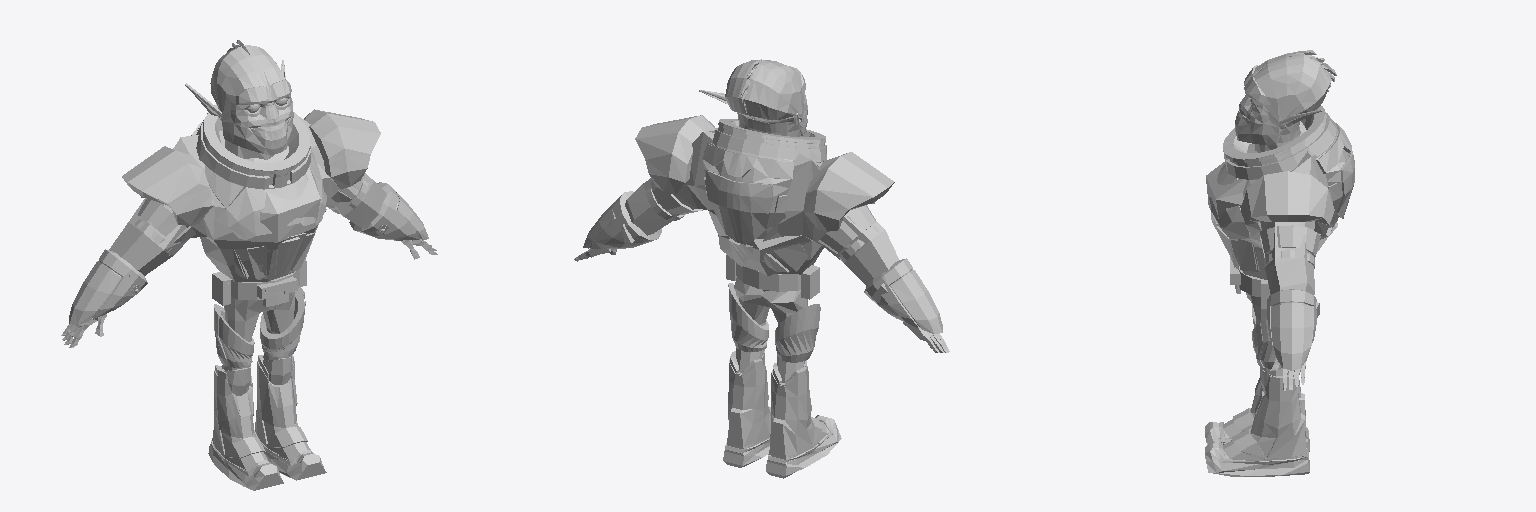
File: Alien.obj
The picture shows the model from 3 angles: view 1: azimuth 30°, elevation 25°; view 2: azimuth 150°, elevation 25°; view 3: azimuth 270°, elevation 25°; orthographic projection.
Parts seen in each view (by area): view 1: outfit1 pCylinder7, outfit1 pPipe3 pPipe4, Head1, outfit1 polySurface36, outfit1 pPipe9 pPipe10, outfit1 polySurface31 polySurface32, outfit1 pPipe12 pPipe13, outfit1 polySurface34, outfit1 polySurface40, outfit1 polySurface38, outfit1 pPipe5 pPipe6, outfit1 pPipe15 pPipe16 (+9 smaller); view 2: outfit1 pCylinder7, outfit1 pPipe3 pPipe4, outfit1 polySurface31 polySurface32, Head1, outfit1 pPipe9 pPipe10, outfit1 pPipe12 pPipe13, outfit1 polySurface18, outfit1 polySurface36, outfit1 polySurface34, outfit1 pPipe5 pPipe6, outfit1 polySurface19, outfit1 polySurface37 (+9 smaller); view 3: Head1, outfit1 pCylinder7, outfit1 pPipe3 pPipe4, outfit1 polySurface31 polySurface32, outfit1 polySurface36, outfit1 pPipe9 pPipe10, outfit1 polySurface38, outfit1 pPipe5 pPipe6, outfit1 polySurface39, outfit1 pPipe12 pPipe13, outfit1 polySurface19, outfit1 polySurface18 (+1 smaller).
Boxes of the visible parts, box(x1,y1,x2,y2) form: outfit1 pCylinder7: box(109, 116, 386, 281); outfit1 pPipe3 pPipe4: box(122, 109, 380, 225); Head1: box(185, 45, 293, 159); outfit1 polySurface36: box(196, 104, 326, 239); outfit1 pPipe9 pPipe10: box(69, 182, 428, 324); outfit1 polySurface31 polySurface32: box(211, 361, 312, 476); outfit1 pPipe12 pPipe13: box(214, 287, 305, 367); outfit1 polySurface34: box(222, 292, 294, 392); outfit1 polySurface40: box(210, 365, 269, 483); outfit1 polySurface38: box(258, 354, 313, 472); outfit1 pPipe5 pPipe6: box(138, 177, 362, 243); outfit1 pPipe15 pPipe16: box(222, 357, 291, 395); outfit1 pCylinder7: box(625, 132, 898, 285); outfit1 pPipe3 pPipe4: box(635, 115, 894, 231); outfit1 polySurface31 polySurface32: box(725, 360, 833, 463); Head1: box(699, 59, 807, 136); outfit1 pPipe9 pPipe10: box(583, 191, 942, 333); outfit1 pPipe12 pPipe13: box(728, 283, 820, 362); outfit1 polySurface18: box(705, 171, 772, 243); outfit1 polySurface36: box(713, 119, 826, 162); outfit1 polySurface34: box(734, 277, 807, 382); outfit1 pPipe5 pPipe6: box(651, 181, 875, 253); outfit1 polySurface19: box(702, 143, 793, 178); outfit1 polySurface37: box(702, 143, 793, 271); Head1: box(1235, 51, 1331, 152); outfit1 pCylinder7: box(1206, 121, 1331, 294); outfit1 pPipe3 pPipe4: box(1241, 171, 1334, 235); outfit1 polySurface31 polySurface32: box(1219, 377, 1308, 464); outfit1 polySurface36: box(1209, 106, 1336, 227); outfit1 pPipe9 pPipe10: box(1267, 289, 1316, 370); outfit1 polySurface38: box(1213, 372, 1307, 470); outfit1 pPipe5 pPipe6: box(1260, 225, 1320, 257); outfit1 polySurface39: box(1205, 443, 1309, 476); outfit1 pPipe12 pPipe13: box(1252, 304, 1282, 368); outfit1 polySurface19: box(1316, 121, 1351, 173); outfit1 polySurface18: box(1337, 151, 1354, 218).
Bounding box in the file's own units: 15.02 × 15.88 × 5.29.